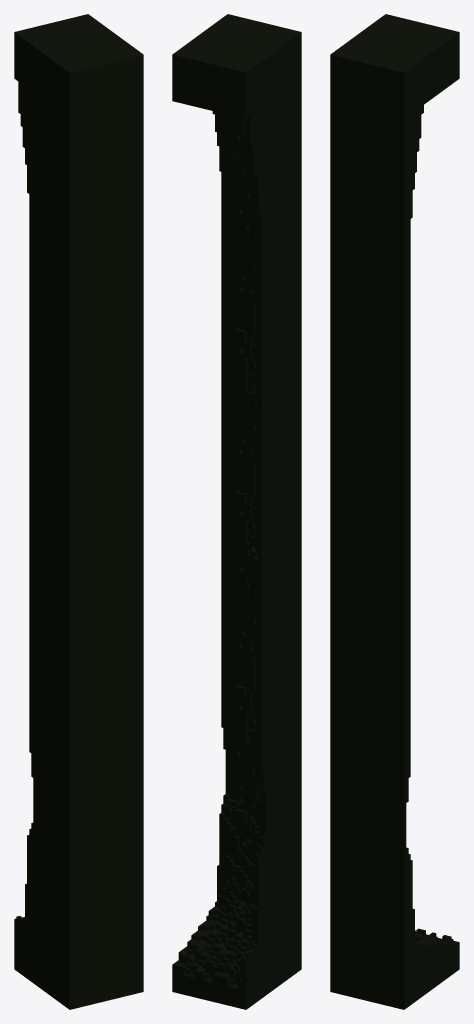
File: Wall_2.glb
3 renders of one model, left to right at view 1: azimuth 30°, elevation 25°; view 2: azimuth 150°, elevation 25°; view 3: azimuth 330°, elevation 25°, orthographic.
Parts seen in each view (by area): view 1: Untitled.032, Untitled.018, Untitled.023; view 2: Untitled.032, Untitled.018, Untitled.023; view 3: Untitled.032, Untitled.018, Untitled.023.
Boxes of the visible parts, x1,y1,x2,y2 form: Untitled.032: (14,535,143,1009); Untitled.018: (29,206,143,564); Untitled.023: (14,14,143,235); Untitled.032: (172,510,301,1009); Untitled.018: (221,181,301,553); Untitled.023: (172,14,301,224); Untitled.032: (330,546,459,1009); Untitled.018: (330,217,410,564); Untitled.023: (330,14,459,235).
Bounding box in the file's own units: 2 × 24.2 × 2.6.
Materials: 3 (3 with a texture image).
